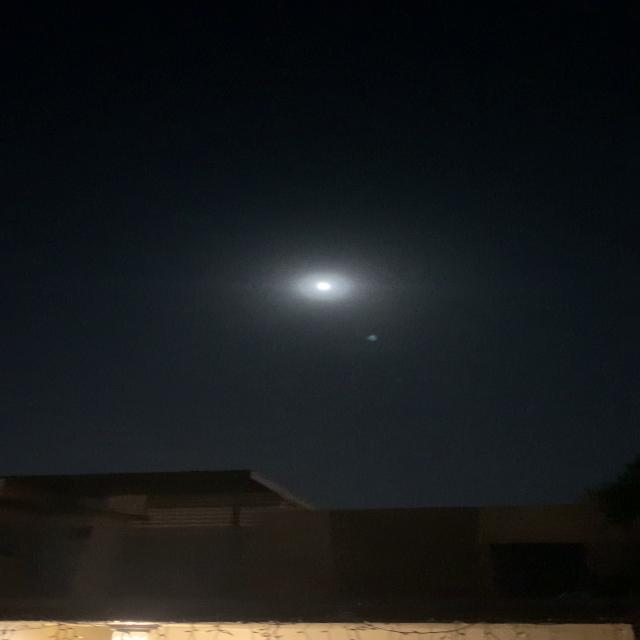moon: (306, 272, 358, 297)
